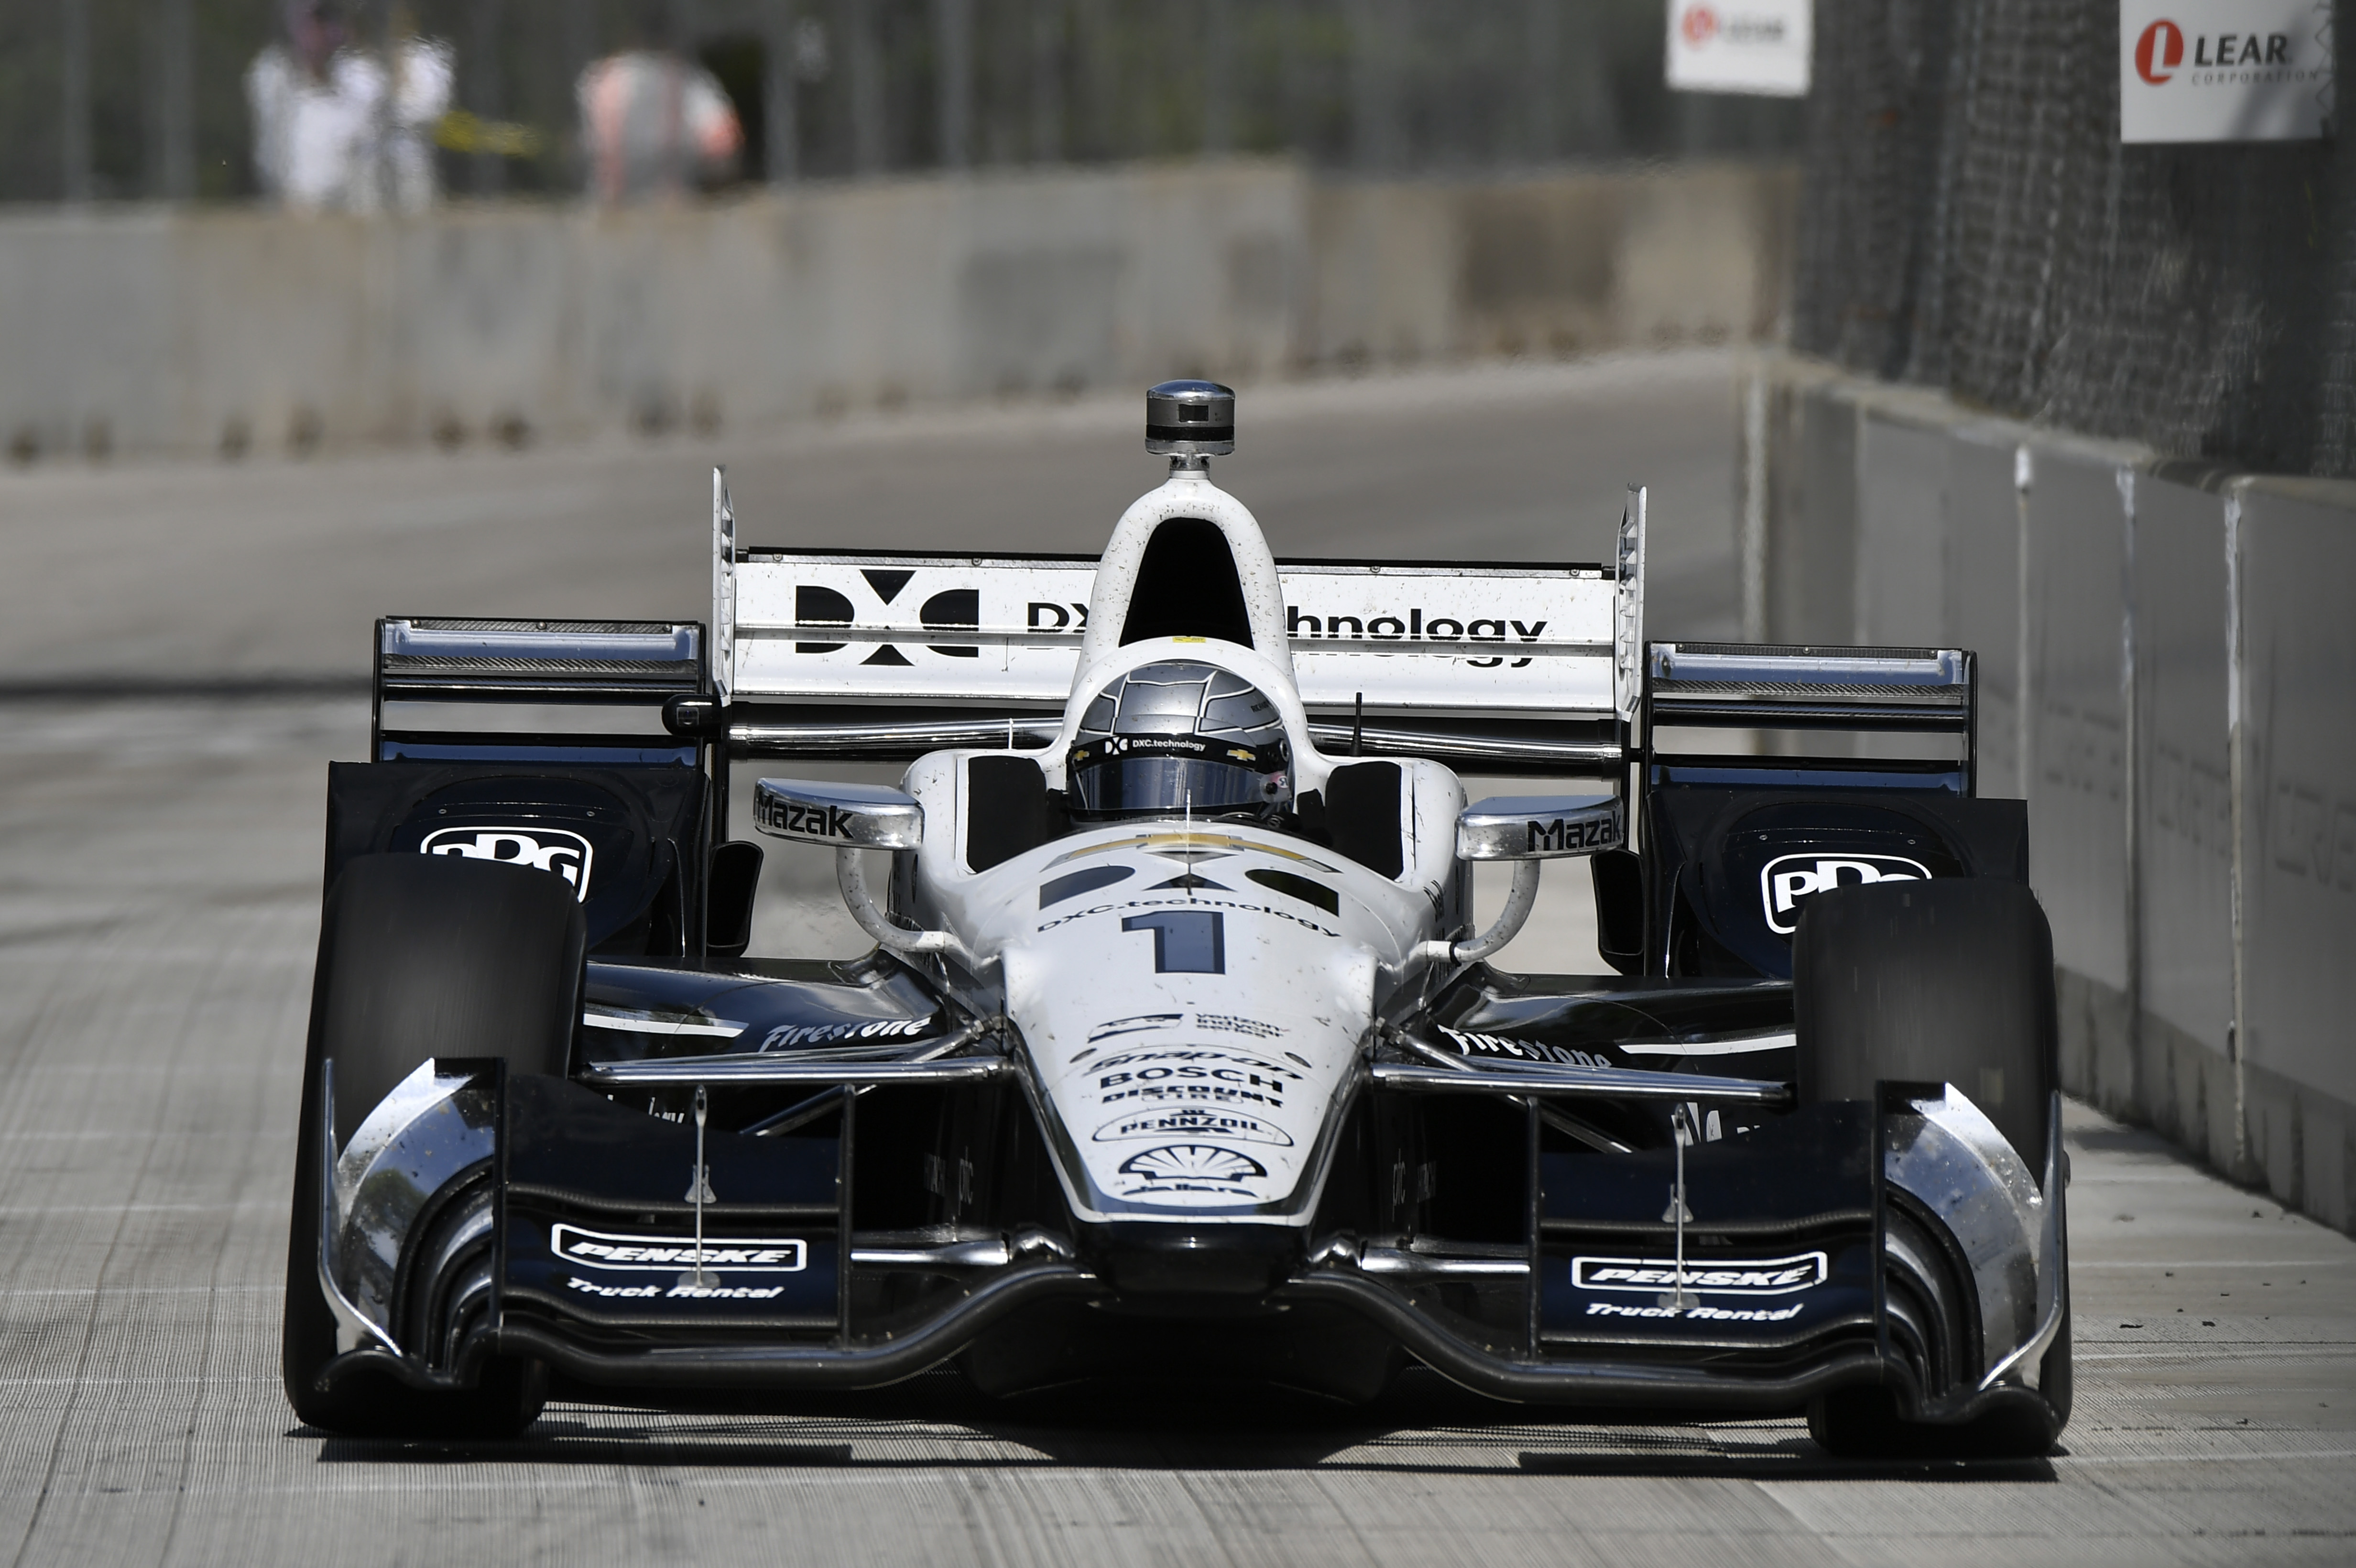camera-camera: (1101, 376, 1281, 530)
car-bottom-front-1: (273, 367, 2079, 1489)
carconenumber-1: (1094, 891, 1280, 1003)
